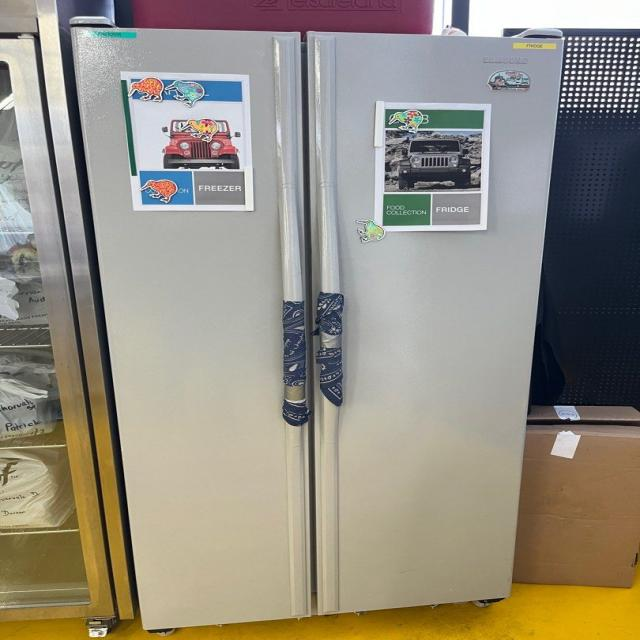refrigerator: (69, 25, 567, 634)
